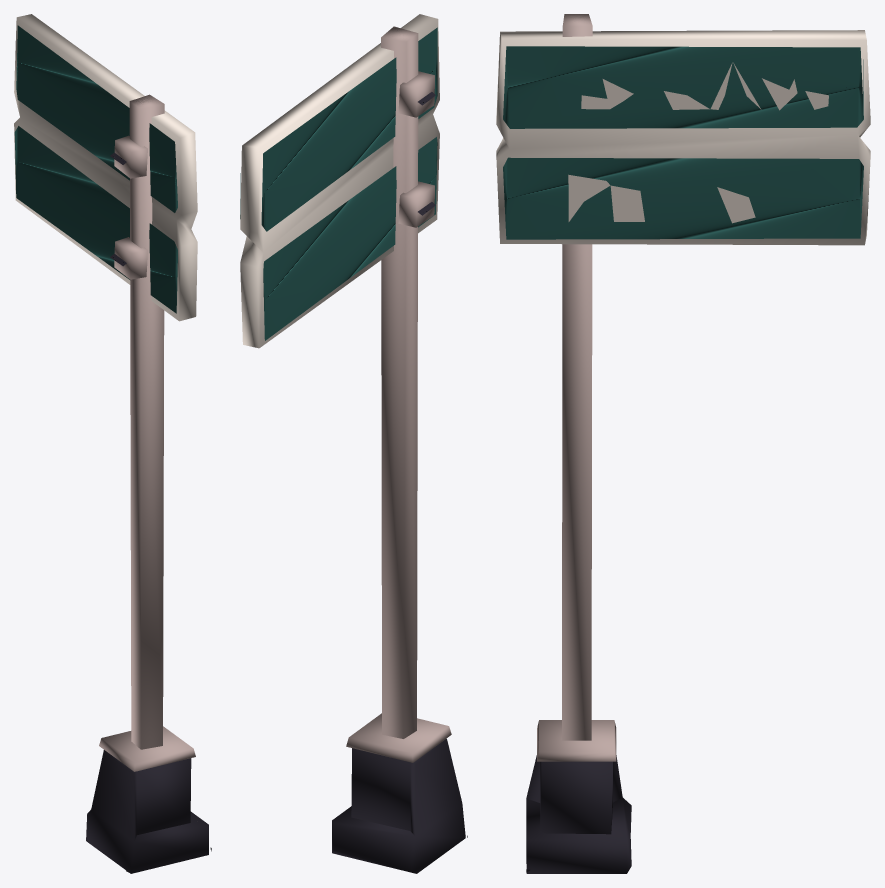
The picture shows the model from 3 angles, left to right: view 1: azimuth 30°, elevation 25°; view 2: azimuth 150°, elevation 25°; view 3: azimuth 270°, elevation 25°; orthographic projection. The views are drawn at different scales.
Bounding box in the file's own units: 0.3396 × 2.84 × 1.16.
